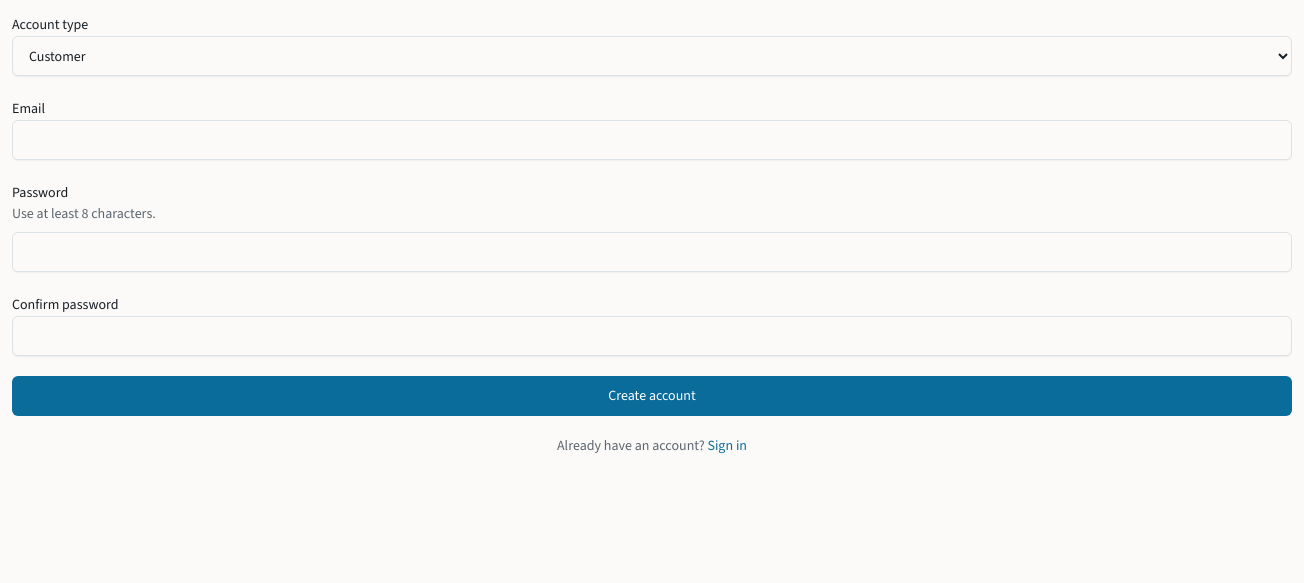
Test: RegisterForm › requires organization name for business accounts
This screenshot has width=1304, height=583.
Select "Business" in the dropdown labelled "Account type" at (652, 56), box x1=12 y1=36 x2=1292 y2=76
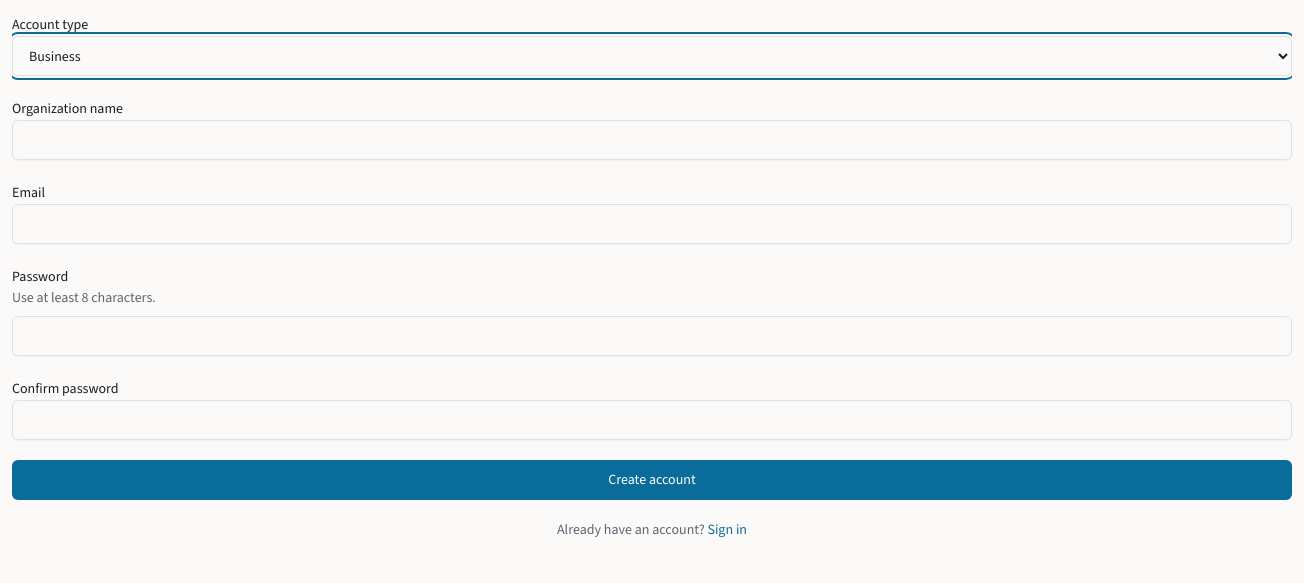
Type "biz@example.com" into the field labelled "Email" at (652, 224), box x1=12 y1=204 x2=1292 y2=244
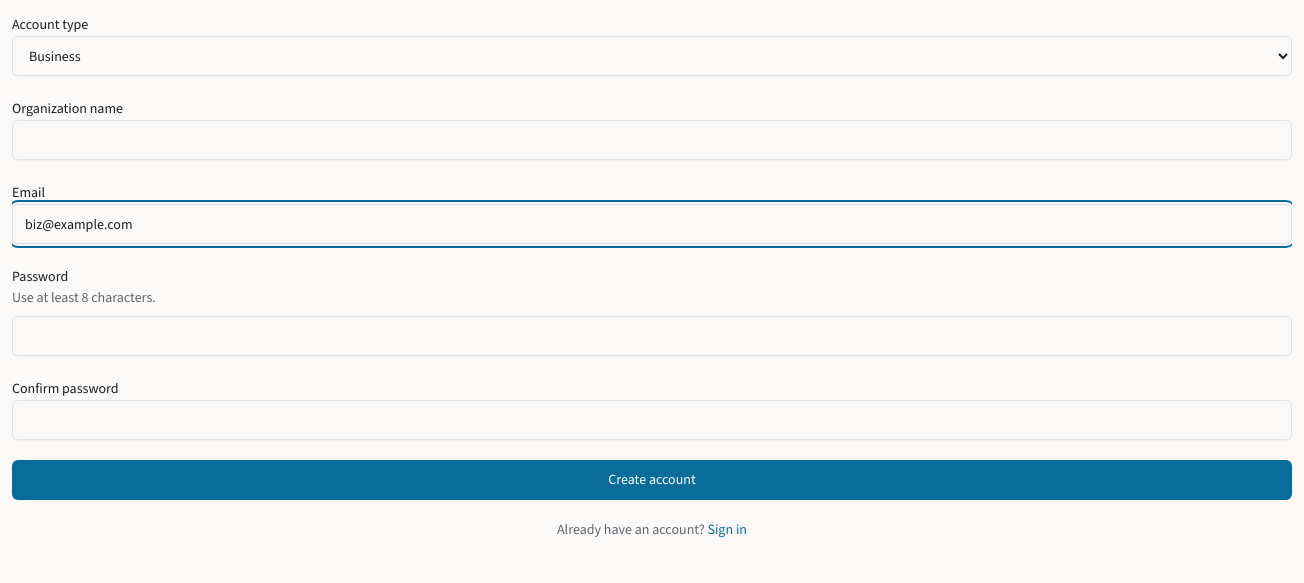
Type "SecurePass1!" into the password field labelled "Password" at (652, 336), box x1=12 y1=316 x2=1292 y2=356
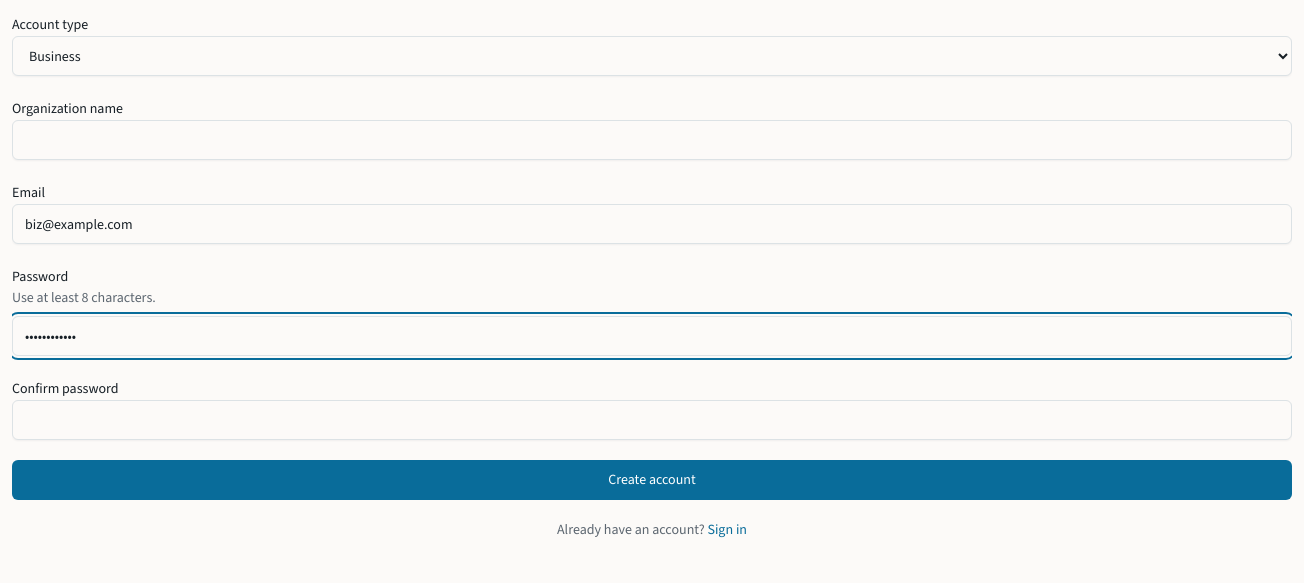
Type "SecurePass1!" into the password field labelled "Confirm password" at (652, 420), box x1=12 y1=400 x2=1292 y2=440
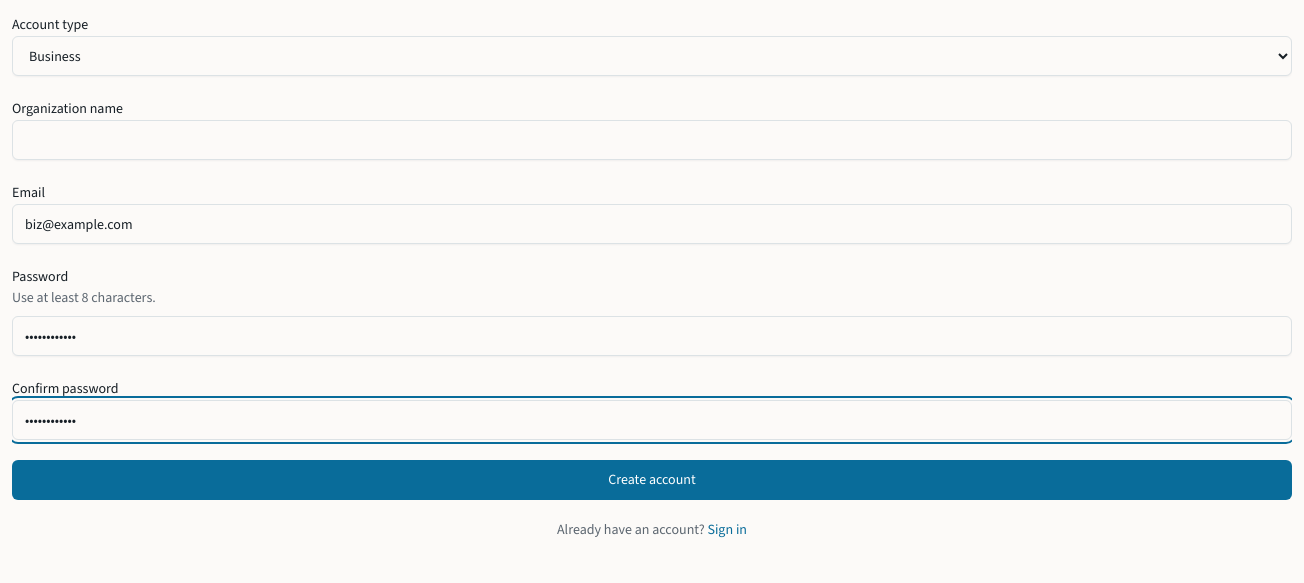
Click the button "Create account" at (652, 480), box x1=12 y1=460 x2=1292 y2=500
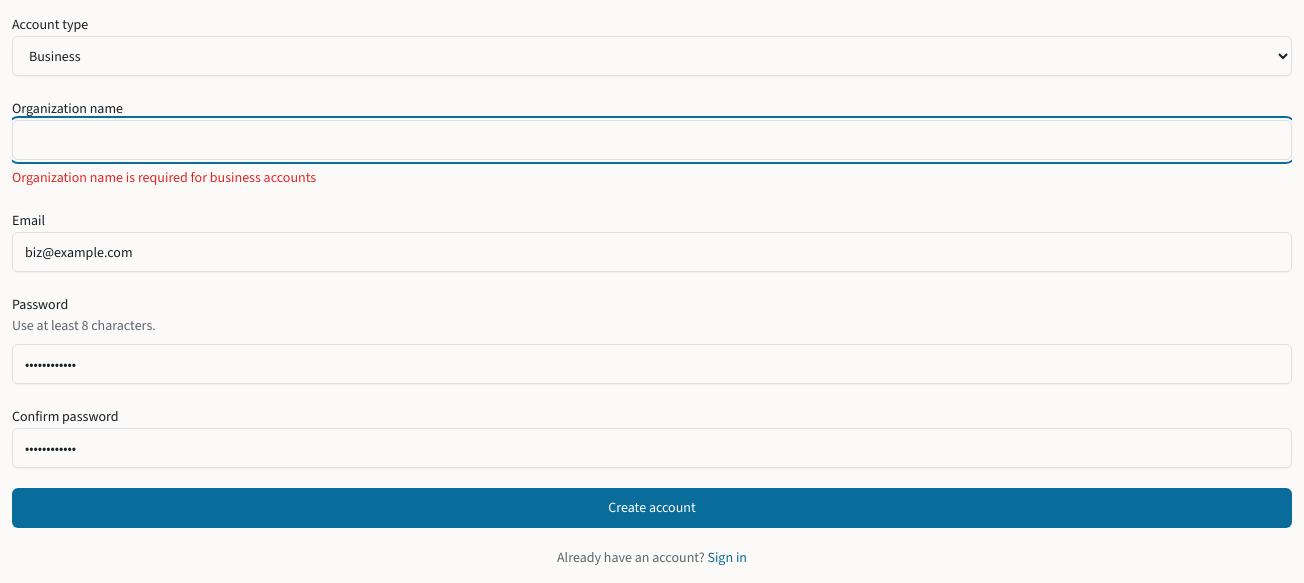
Check: the text "Organization name is required for business accounts" is shown, box x1=12 y1=168 x2=316 y2=187
